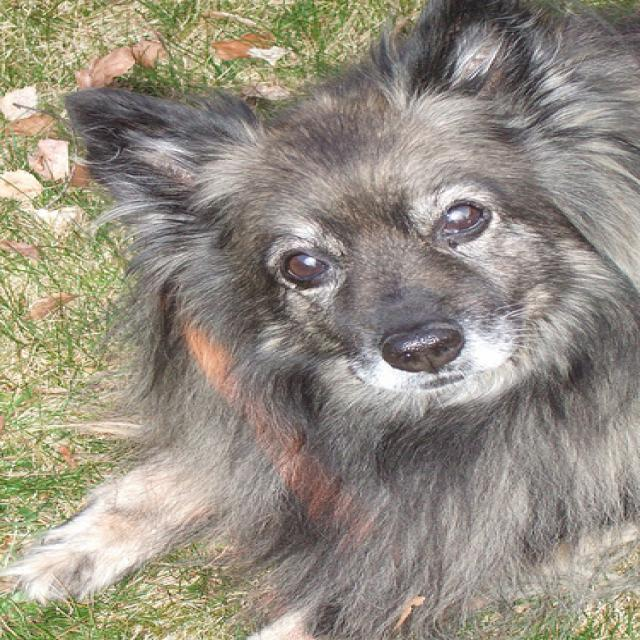dog-keeshond: (2, 1, 637, 637)
